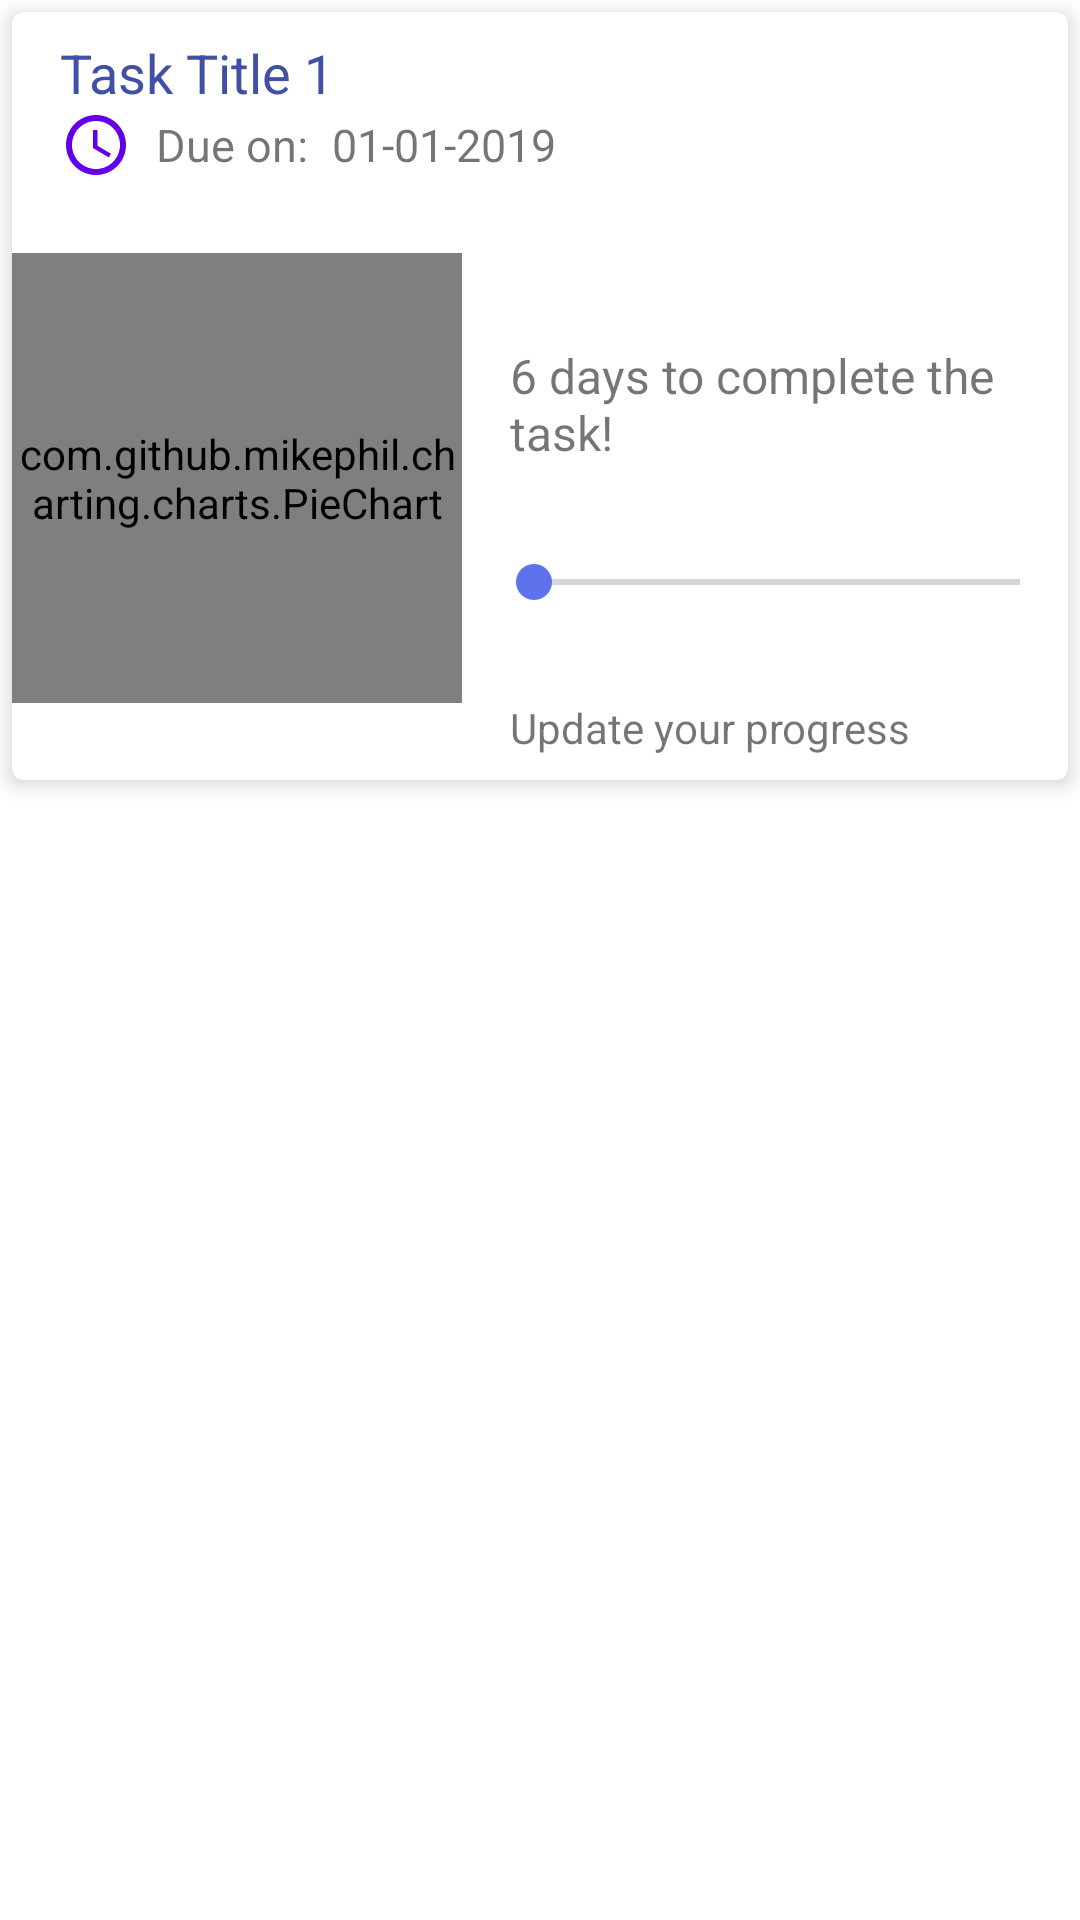

Screen size 1080px×1920px. Icon name, then its center in pixels as point (x, y):
schedule: point (96, 145)
